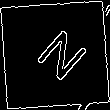N_SW: (23, 23, 87, 87)
